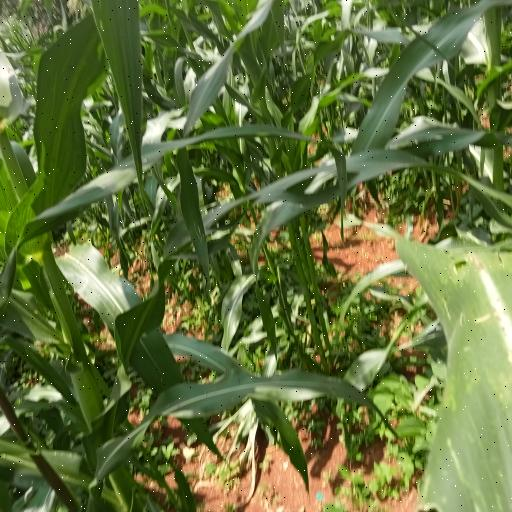Corn_Brown_Spots: (396, 227, 512, 511)
